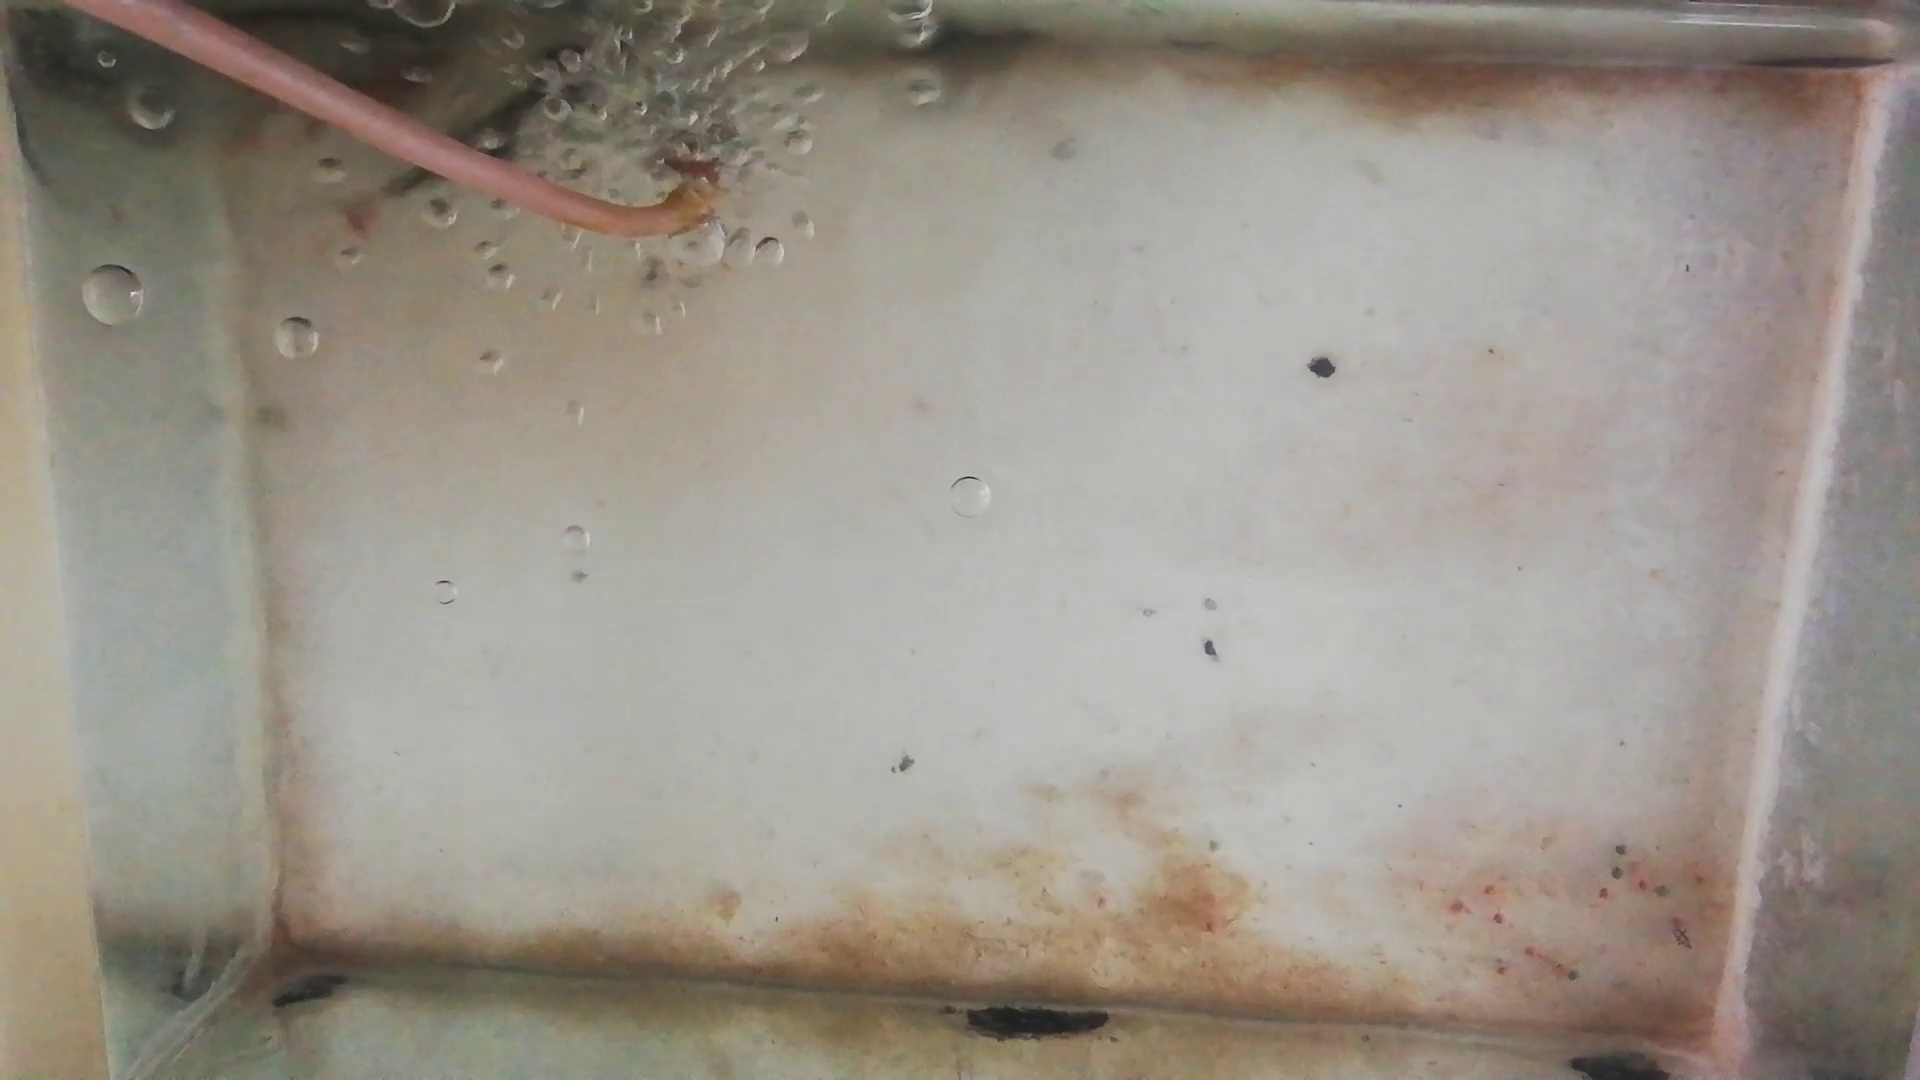fish: (458, 51, 593, 152), (324, 62, 440, 100)
